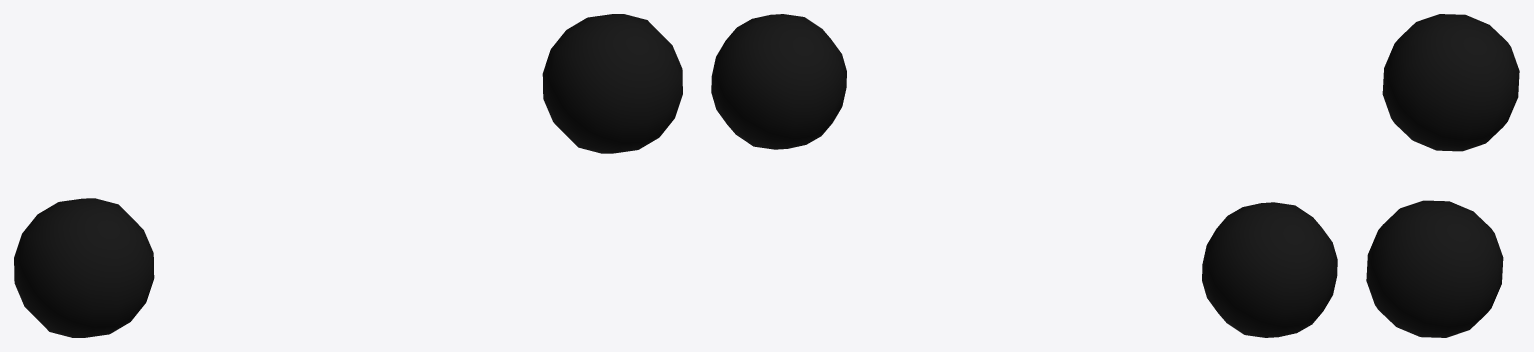
Rendered from Ojos.glb.
The picture shows the model from 3 angles, left to right: view 1: azimuth 30°, elevation 25°; view 2: azimuth 150°, elevation 25°; view 3: azimuth 270°, elevation 25°; orthographic projection. The views are drawn at different scales.
Parts seen in each view (by area): view 1: OJOS; view 2: OJOS; view 3: OJOS.
Boxes of the visible parts, bbox=[...] form: OJOS: bbox=[14, 14, 682, 337]; OJOS: bbox=[711, 14, 1337, 337]; OJOS: bbox=[1366, 14, 1519, 337].
Bounding box in the file's own units: 0.9899 × 0.2794 × 0.2093.
Materials: 1 (1 with a texture image).
